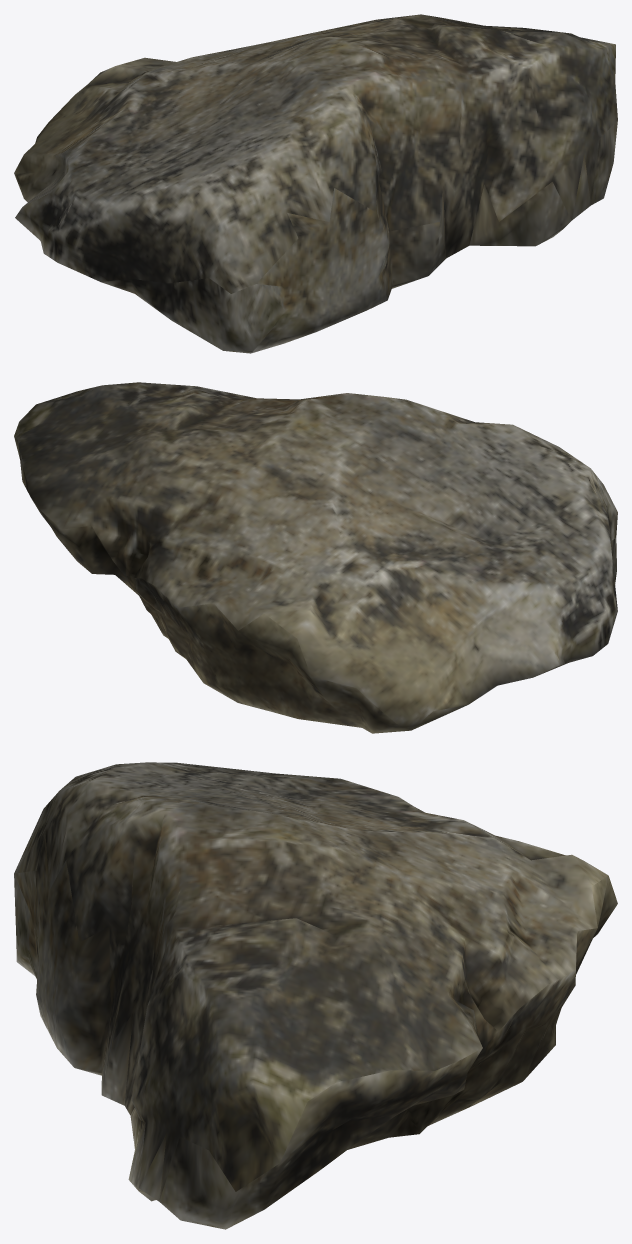
The model's file is pine_rockb_10.glb.
The picture shows the model from 3 angles, top to bottom: view 1: azimuth 30°, elevation 25°; view 2: azimuth 150°, elevation 25°; view 3: azimuth 270°, elevation 25°; orthographic projection. The views are drawn at different scales.
Parts seen in each view (by area): view 1: pine_rockb_10; view 2: pine_rockb_10; view 3: pine_rockb_10.
Boxes of the visible parts, x1,y1,x2,y2 form: pine_rockb_10: (14,14,617,353); pine_rockb_10: (14,382,617,733); pine_rockb_10: (14,762,617,1229).
Size of the model in its own units: 1.96 by 0.6851 by 1.38.
Materials: 1 (1 with a texture image).
